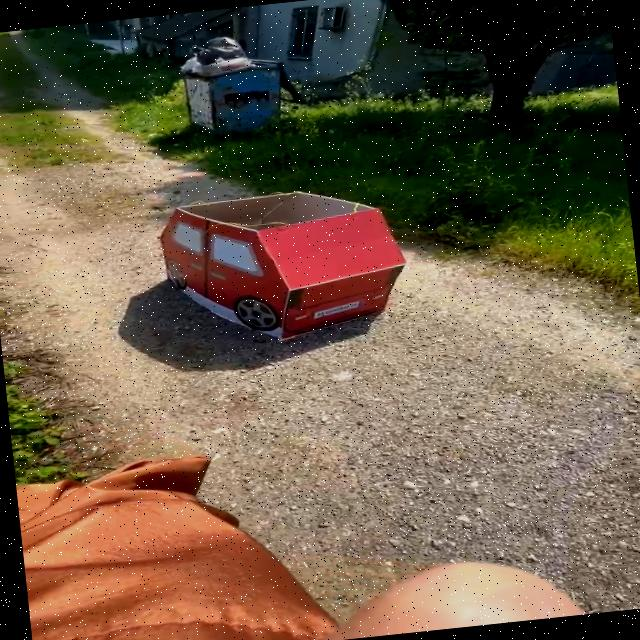red_car: (121, 164, 442, 390)
